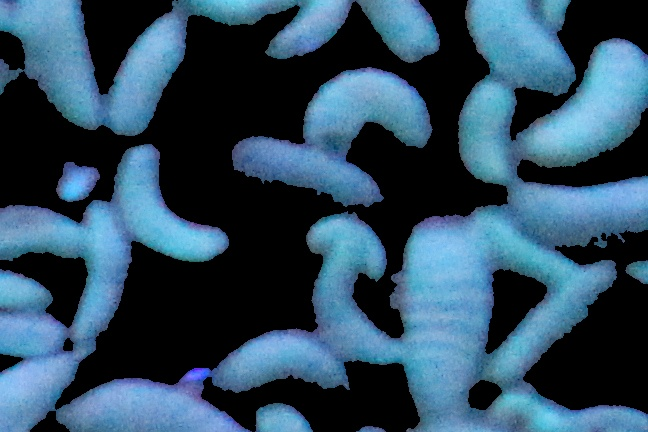larvae: (393, 215, 485, 417), (513, 32, 647, 161), (482, 265, 612, 387), (115, 147, 222, 267), (104, 9, 188, 136), (505, 171, 643, 248), (299, 68, 435, 145), (233, 139, 383, 208), (463, 1, 572, 87), (213, 327, 350, 394), (313, 247, 395, 356), (29, 2, 98, 127), (479, 208, 572, 287), (455, 77, 520, 188), (77, 199, 125, 349), (302, 218, 389, 277), (266, 1, 354, 59), (359, 1, 439, 62), (1, 312, 72, 364), (1, 272, 53, 307)
